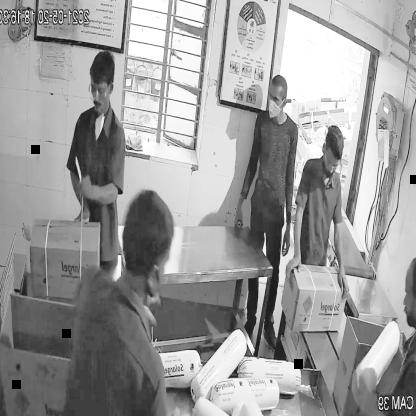goggles: (82, 80, 114, 102)
